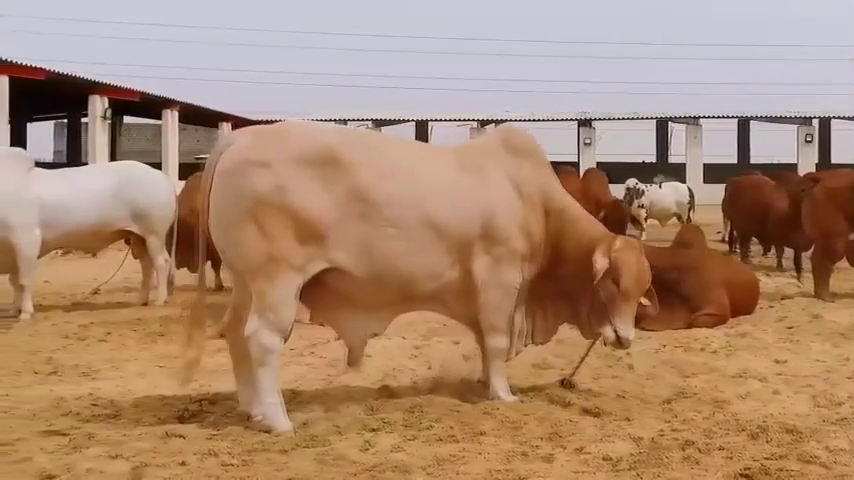bo: (164, 118, 659, 440), (1, 142, 172, 321), (612, 212, 766, 333), (712, 157, 806, 282), (783, 163, 854, 310), (156, 167, 220, 286), (546, 154, 632, 240), (613, 161, 702, 236)
